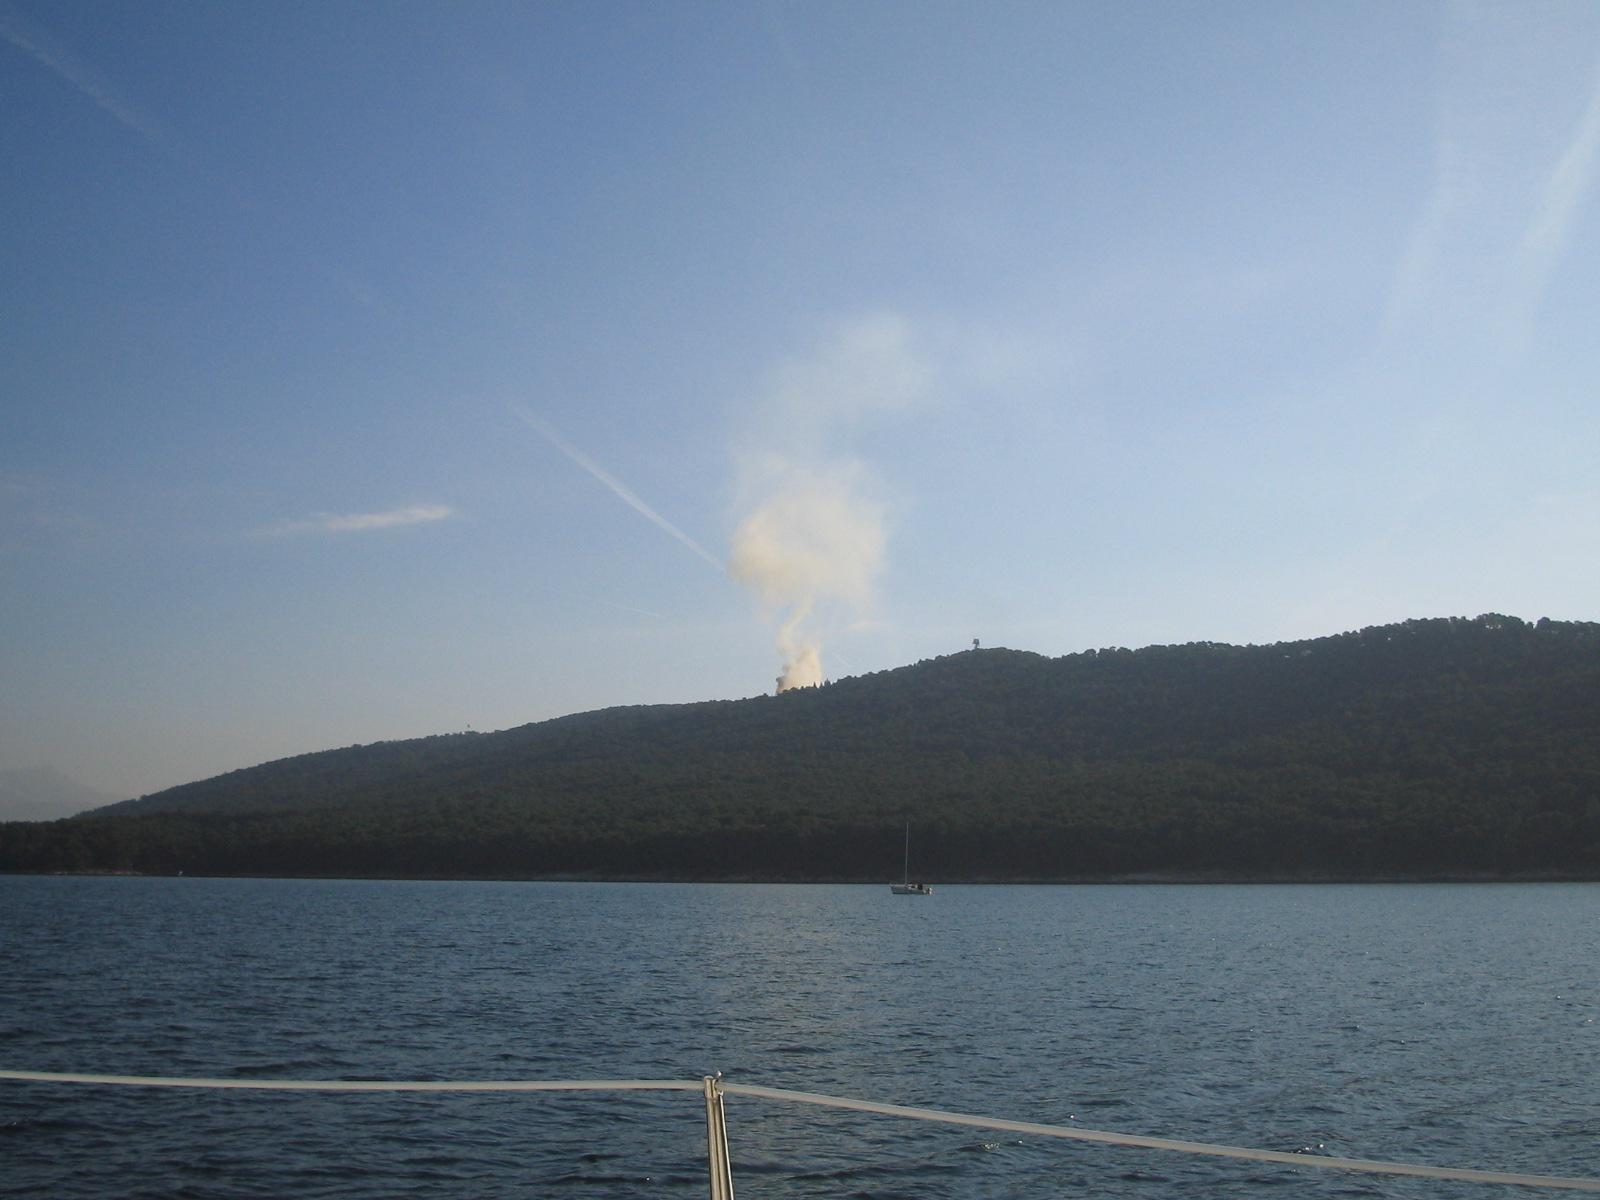Smoke: (726, 323, 905, 705)
